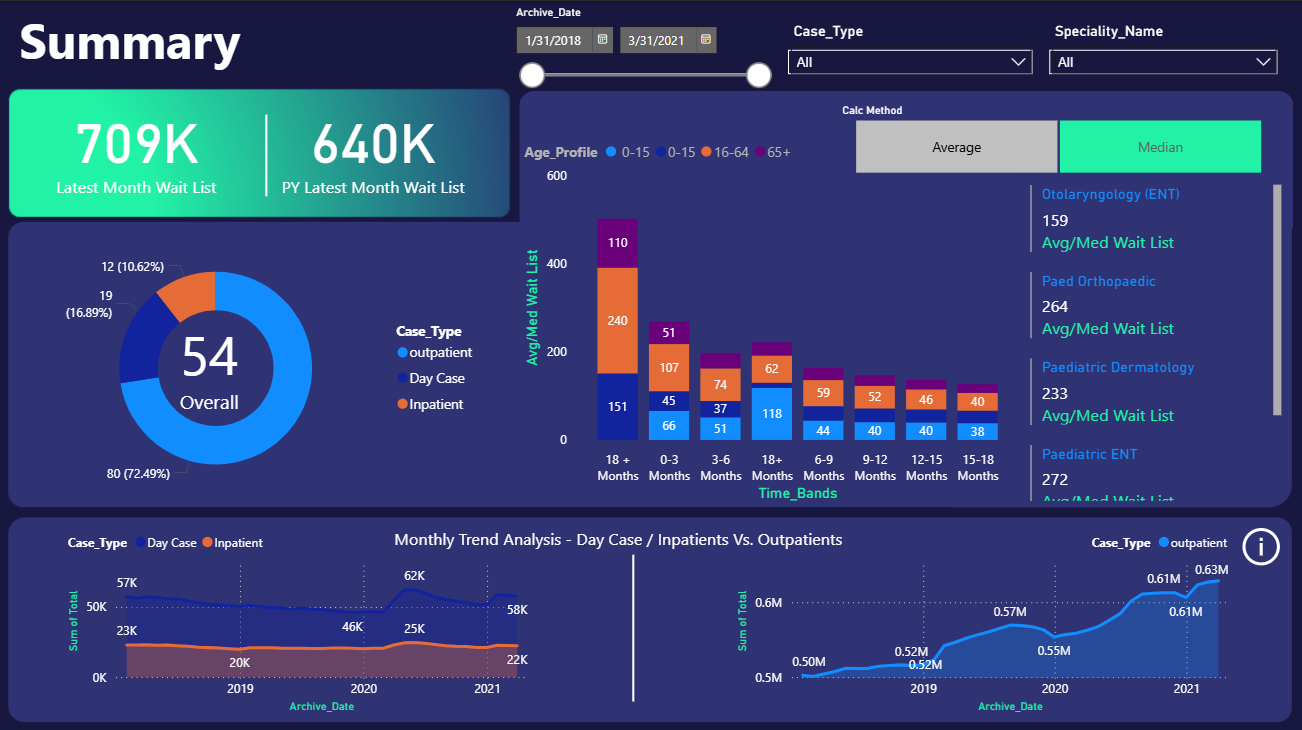

Layout of this report page (visuals, bound fields, positions):
{"tool":"powerbi","page":{"name":"Summary","canvas":[1280,720],"ordinal":0},"visuals":[{"type":"shape","box":[512,88,760,144],"z":0},{"type":"shape","box":[1032,48,224,24],"z":1000},{"type":"slicer","fields":{"Values":["All_Data.Speciality_Name"]},"box":[1024,16,240,80],"z":2000},{"type":"card","fields":{"Values":["All_Data.NoDataRight"]},"box":[848,576,304,64],"z":3000},{"type":"shape","box":[776,48,240,24],"z":4000},{"type":"card","fields":{"Values":["All_Data.PY Latest Month Wait List"]},"box":[240,64,256,160],"z":6000},{"type":"slicer","fields":{"Values":["Calculation Method.Calc Method"]},"box":[816,96,448,80],"z":7000},{"type":"card","fields":{"Values":["All_Data.Latest Month Wait List"]},"box":[0,64,272,160],"z":7500},{"type":"donutChart","fields":{"Category":["All_Data.Case_Type"],"Y":["All_Data.Avg/Med Wait List"]},"box":[32,224,448,272],"z":8000},{"type":"columnChart","fields":{"Y":["All_Data.Avg/Med Wait List"],"Category":["All_Data.Time_Bands"],"Series":["All_Data.Age_Profile"]},"box":[512,128,496,368],"z":9000},{"type":"multiRowCard","fields":{"Values":["All_Data.Speciality_Name","All_Data.Avg/Med Wait List"]},"box":[1008,176,256,320],"z":10000},{"type":"lineChart","fields":{"Category":["All_Data.Archive_Date"],"Y":["Sum(All_Data.Total)"],"Series":["All_Data.Case_Type"]},"box":[64,512,464,192],"z":11000},{"type":"lineChart","fields":{"Category":["All_Data.Archive_Date"],"Y":["Sum(All_Data.Total)"],"Series":["All_Data.Case_Type"]},"box":[720,512,496,192],"z":12000},{"type":"slicer","fields":{"Values":["All_Data.Archive_Date"]},"box":[496,0,272,96],"z":13000},{"type":"slicer","fields":{"Values":["All_Data.Case_Type"]},"box":[768,16,256,80],"z":14000},{"type":"textbox","box":[16,0,272,80],"z":15000},{"type":"textbox","box":[160,304,96,112],"z":16000},{"type":"shape","box":[192,112,144,80],"z":17000},{"type":"shape","box":[528,544,192,144],"z":18000},{"type":"textbox","box":[384,512,464,64],"z":19000},{"type":"textbox","box":[560,96,256,48],"z":20000},{"type":"card","fields":{"Values":["All_Data.NewDataLeft"]},"box":[144,576,304,64],"z":21000},{"type":"actionButton","box":[1216,512,48,48],"z":21001}]}

Visuals, with their boxes in screenshot pixels (x1, y1, x2, y2), scaled from the page's 1280x720 canvas onto the 1302x730 screenshot:
shape: (521,89,1294,235)
shape: (1050,49,1278,73)
slicer - All_Data.Speciality_Name: (1042,16,1286,97)
card - All_Data.NoDataRight: (863,584,1172,649)
shape: (789,49,1033,73)
card - All_Data.PY Latest Month Wait List: (244,65,505,227)
slicer - Calculation Method.Calc Method: (830,97,1286,178)
card - All_Data.Latest Month Wait List: (0,65,277,227)
donutChart - All_Data.Case_Type x All_Data.Avg/Med Wait List: (33,227,488,503)
columnChart - All_Data.Avg/Med Wait List x All_Data.Time_Bands: (521,130,1025,503)
multiRowCard - All_Data.Speciality_Name x All_Data.Avg/Med Wait List: (1025,178,1286,503)
lineChart - All_Data.Archive_Date x Sum(All_Data.Total): (65,519,537,714)
lineChart - All_Data.Archive_Date x Sum(All_Data.Total): (732,519,1237,714)
slicer - All_Data.Archive_Date: (505,0,781,97)
slicer - All_Data.Case_Type: (781,16,1042,97)
textbox: (16,0,293,81)
textbox: (163,308,260,422)
shape: (195,114,342,195)
shape: (537,552,732,698)
textbox: (391,519,863,584)
textbox: (570,97,830,146)
card - All_Data.NewDataLeft: (146,584,456,649)
actionButton: (1237,519,1286,568)
